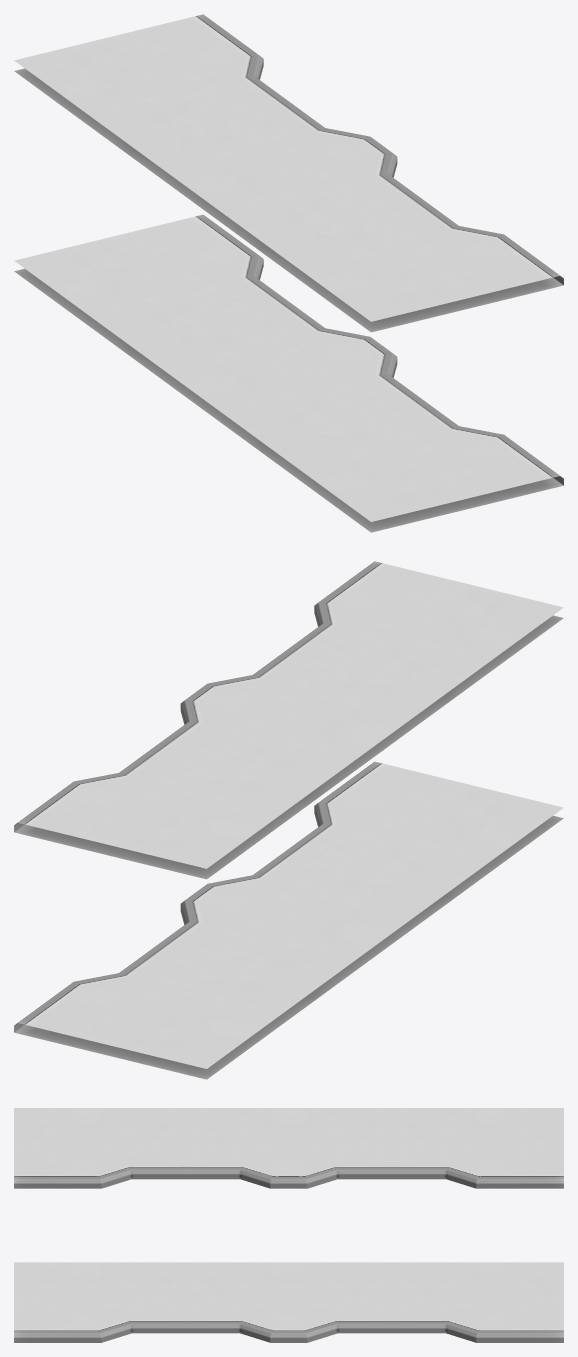
File: SM_LabFridge01_2_Shelves.FBX
3 renders of one model, top to bottom at view 1: azimuth 30°, elevation 25°; view 2: azimuth 150°, elevation 25°; view 3: azimuth 270°, elevation 25°, orthographic. The views are drawn at different scales.
Visible parts, largest first — view 1: SM_LabFridge01_2_Shelves; view 2: SM_LabFridge01_2_Shelves; view 3: SM_LabFridge01_2_Shelves.
Part boxes in pixels (left/top/right/bottom): SM_LabFridge01_2_Shelves: left=14, top=14, right=563, bottom=532; SM_LabFridge01_2_Shelves: left=14, top=561, right=563, bottom=1079; SM_LabFridge01_2_Shelves: left=14, top=1108, right=563, bottom=1342.
Size of what is drawn, in the model's own units: 49.38 by 158 by 51.59.
